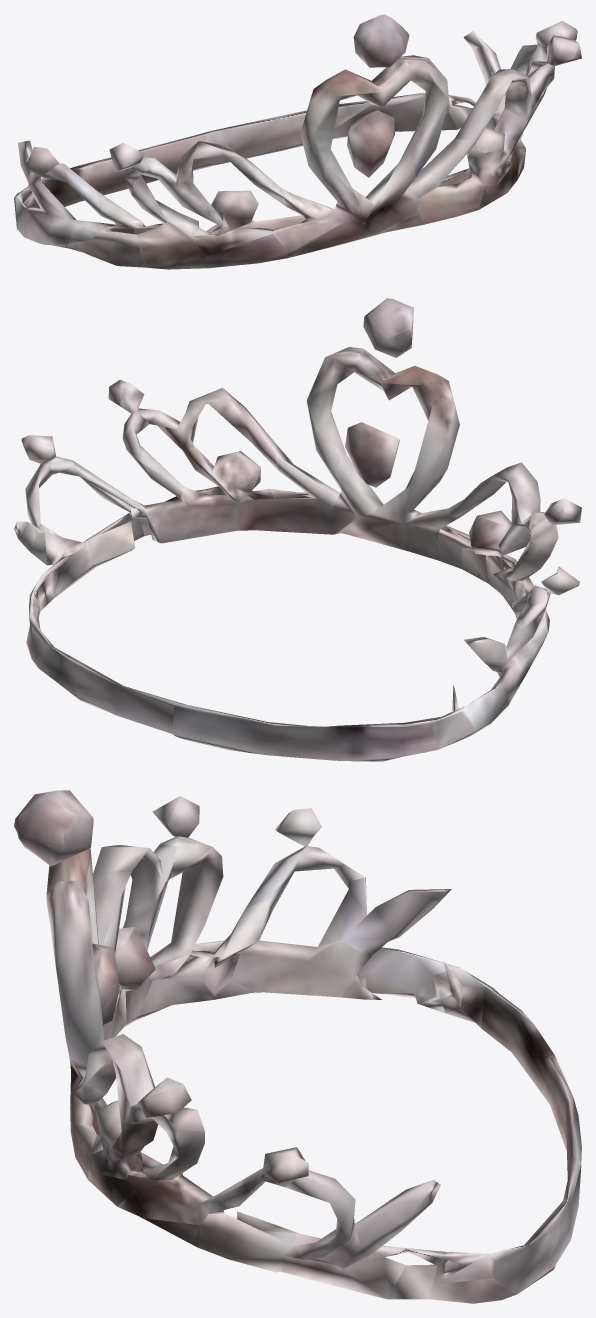
The picture shows the model from 3 angles, top to bottom: view 1: azimuth 30°, elevation 25°; view 2: azimuth 150°, elevation 25°; view 3: azimuth 270°, elevation 25°; orthographic projection. The views are drawn at different scales.
Visible parts, largest first — view 1: Silver-Tiara-09; view 2: Silver-Tiara-09; view 3: Silver-Tiara-09.
Boxes of the visible parts, <box> form: Silver-Tiara-09: <box>14,14,581,269</box>; Silver-Tiara-09: <box>14,298,581,761</box>; Silver-Tiara-09: <box>14,790,581,1303</box>.
Bounding box in the file's own units: 0.3269 × 0.1679 × 0.2137.
1 material, 1 textured.
